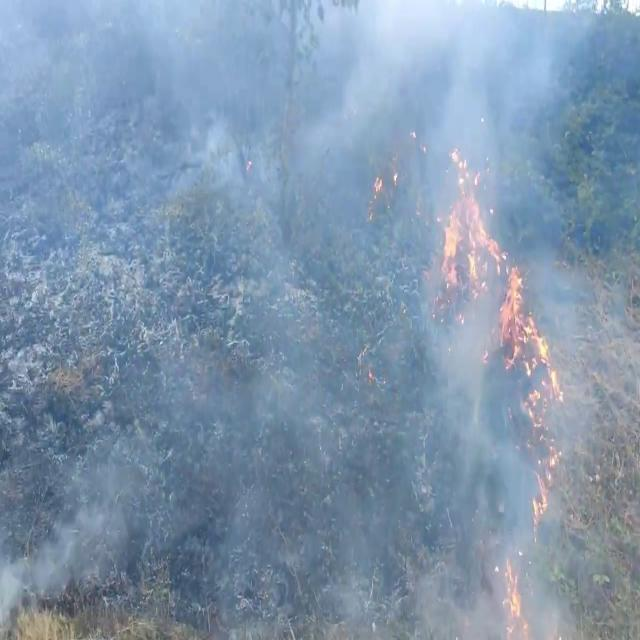Fire: (434, 130, 558, 422)
Smoke: (77, 3, 628, 631), (0, 402, 182, 634)
